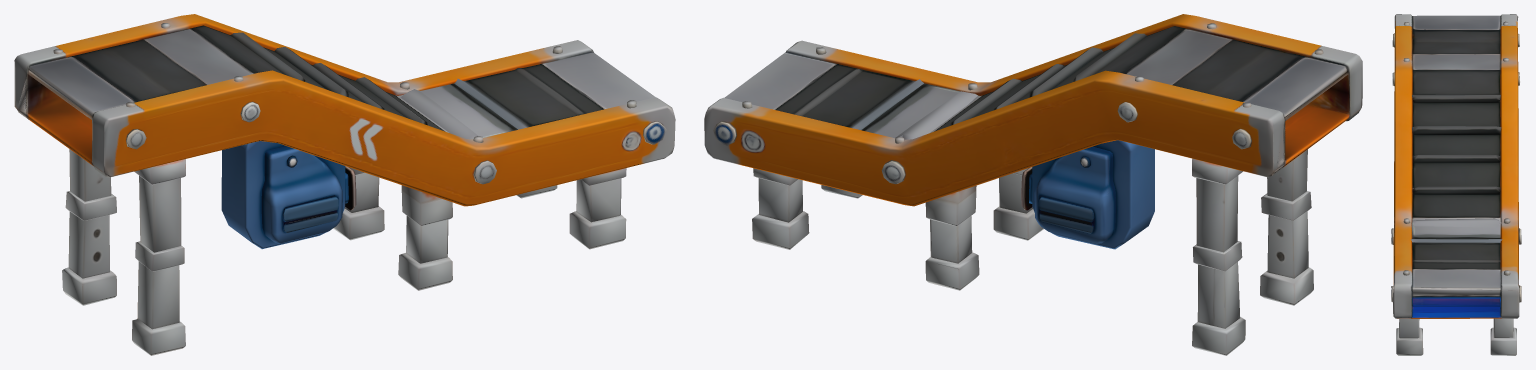
The model's file is incline.glb.
3 views of the same model, side by side, from view 1: azimuth 30°, elevation 25°; view 2: azimuth 150°, elevation 25°; view 3: azimuth 270°, elevation 25° (orthographic). The views are drawn at different scales.
Visible parts, largest first — view 1: geometry_0; view 2: geometry_0; view 3: geometry_0.
Boxes of the visible parts, box(x1,y1,x2,y2) form: geometry_0: box(14, 14, 675, 355); geometry_0: box(704, 14, 1362, 355); geometry_0: box(1391, 14, 1521, 355).
Size of the model in its own units: 1 by 0.4238 by 0.2915.
Materials: 1 (1 with a texture image).
